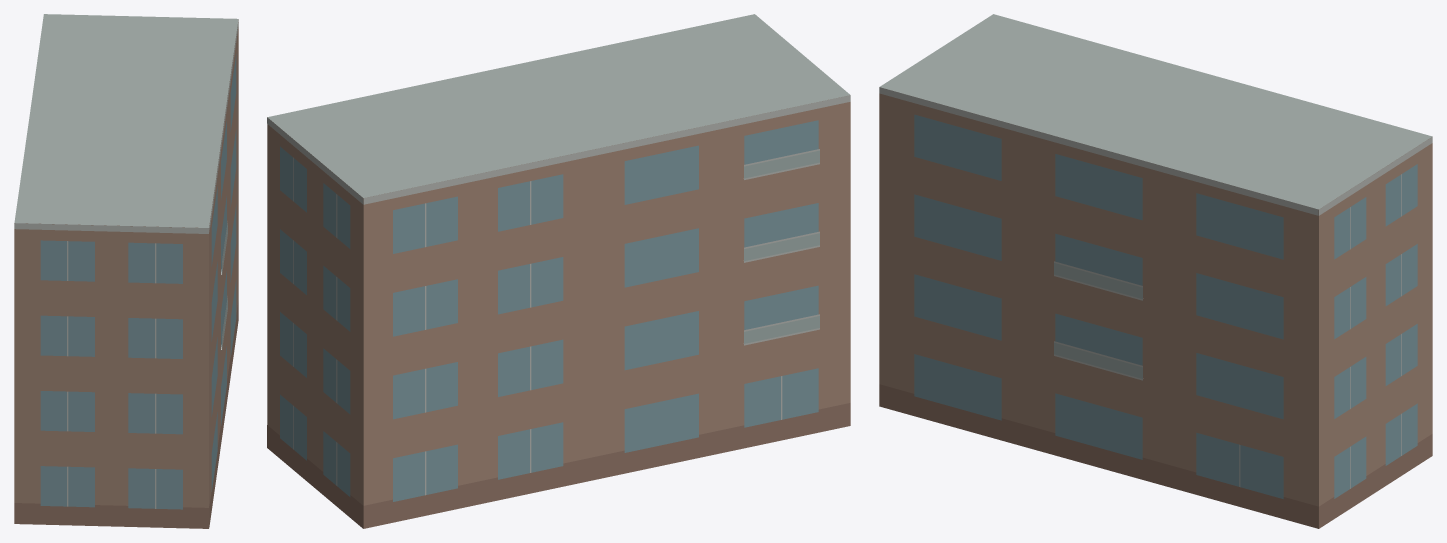
The model's file is residential-de4f73ce-b15e-4ba9-bd8a-7e932d631c53.glb.
3 renders of one model, left to right at view 1: azimuth 30°, elevation 25°; view 2: azimuth 150°, elevation 25°; view 3: azimuth 270°, elevation 25°, orthographic. The views are drawn at different scales.
Parts seen in each view (by area): view 1: residential-de4f73ce-b15e-4ba9-bd8a-7e932d631c53.tmp; view 2: residential-de4f73ce-b15e-4ba9-bd8a-7e932d631c53.tmp; view 3: residential-de4f73ce-b15e-4ba9-bd8a-7e932d631c53.tmp.
Boxes of the visible parts, x1,y1,x2,y2 form: residential-de4f73ce-b15e-4ba9-bd8a-7e932d631c53.tmp: (14,14,238,528); residential-de4f73ce-b15e-4ba9-bd8a-7e932d631c53.tmp: (267,14,850,528); residential-de4f73ce-b15e-4ba9-bd8a-7e932d631c53.tmp: (879,14,1432,528).
Size of the model in its own units: 16.03 by 12.2 by 19.17.
